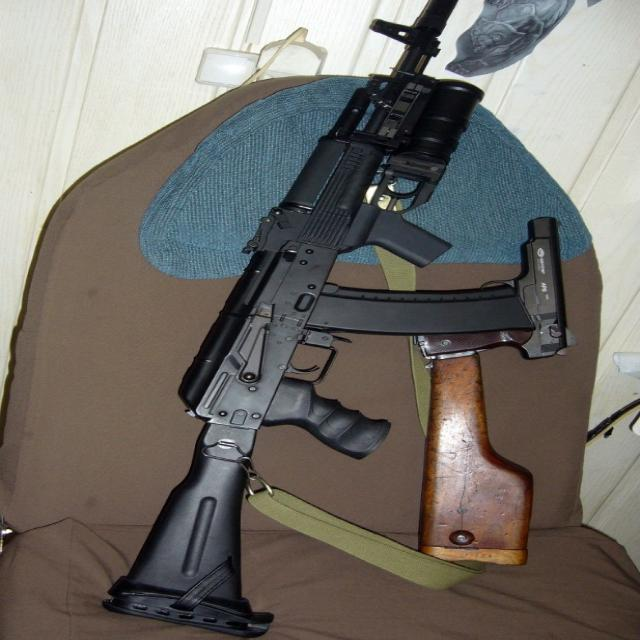firearm: (111, 0, 483, 637)
pistol: (421, 216, 581, 361)
rocket: (368, 77, 488, 217)
